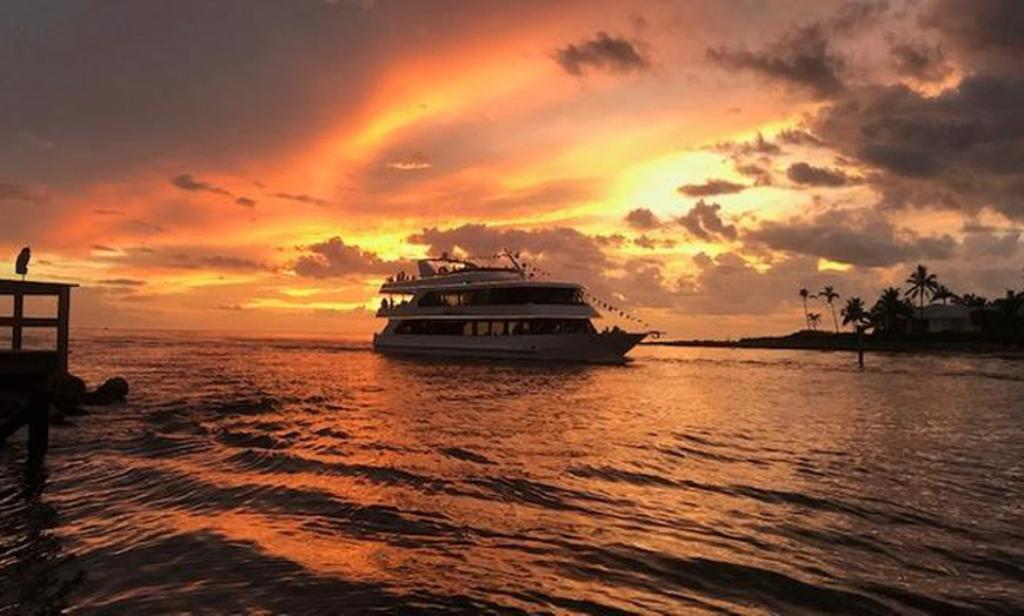PassengerShip: (360, 243, 666, 370)
